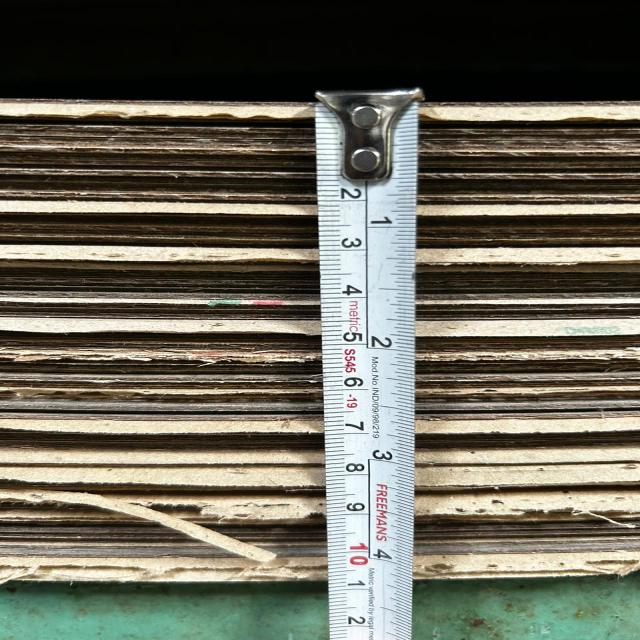sheet: (0, 273, 640, 315), (0, 153, 640, 187), (0, 123, 640, 152), (0, 98, 640, 124), (2, 465, 640, 490), (0, 561, 637, 586), (0, 198, 640, 222), (0, 413, 640, 435), (0, 245, 640, 267), (0, 228, 636, 250), (4, 445, 640, 465), (0, 322, 631, 340), (0, 498, 640, 515), (0, 542, 640, 558), (2, 352, 640, 368), (0, 385, 640, 400), (4, 528, 640, 542)
